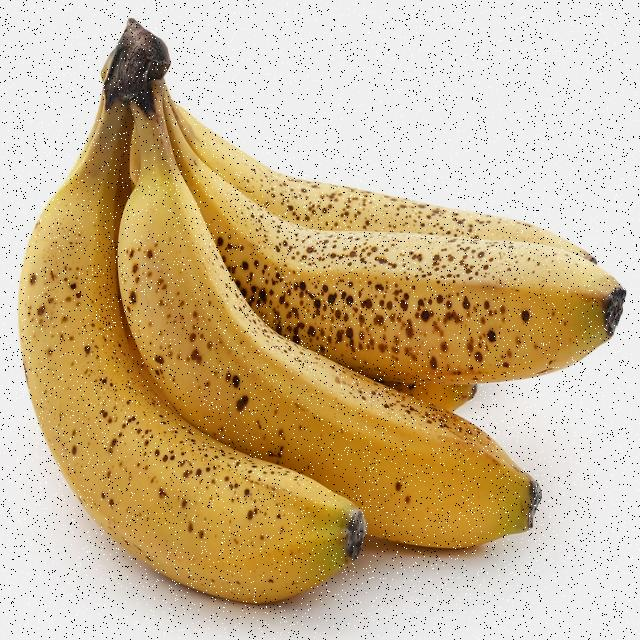Banana: (111, 32, 542, 552), (15, 30, 371, 608), (151, 82, 626, 414)
